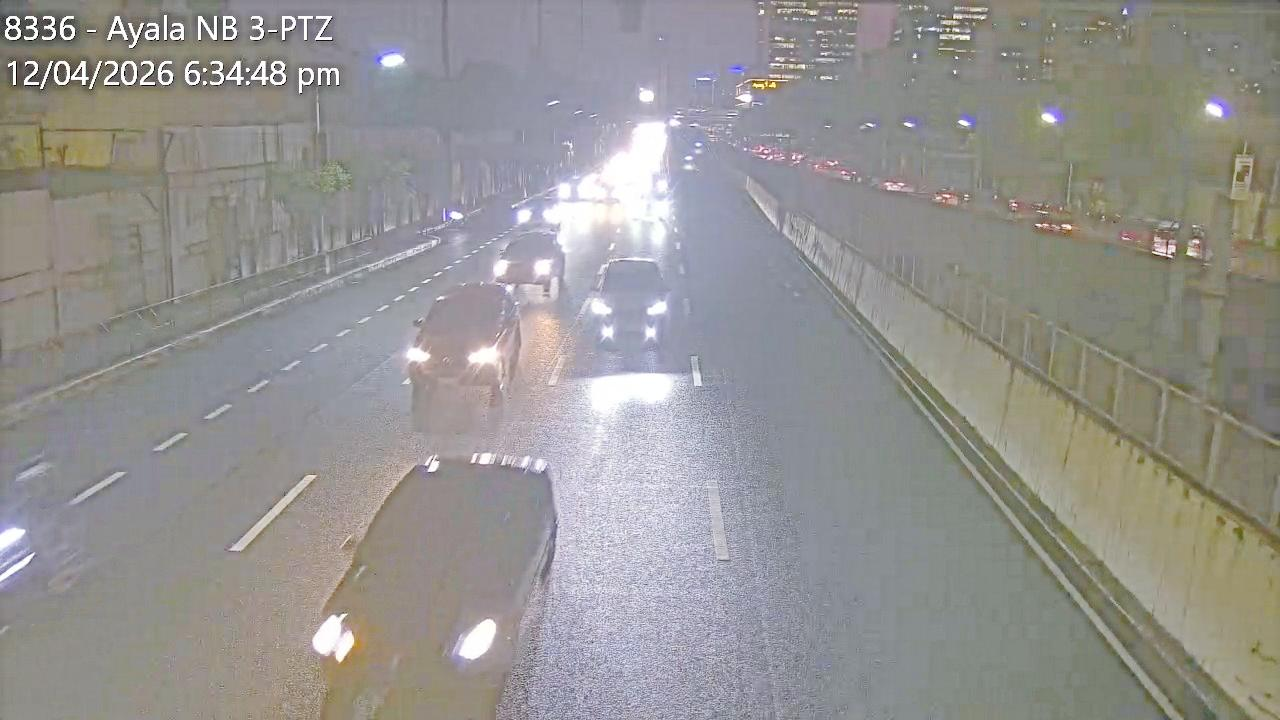Car: (298, 437, 566, 696), (401, 282, 534, 409), (576, 248, 681, 362), (494, 232, 573, 300)
Not Accident: (407, 226, 570, 390)
